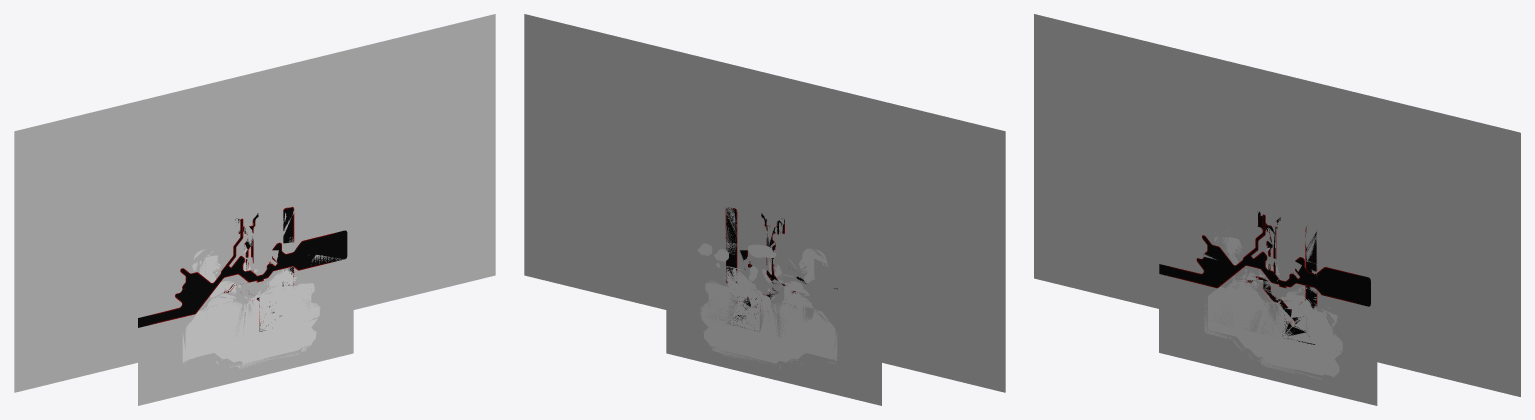
The model's file is HongKong.glb.
3 renders of one model, left to right at view 1: azimuth 30°, elevation 25°; view 2: azimuth 150°, elevation 25°; view 3: azimuth 330°, elevation 25°, orthographic.
Visible parts, largest first — view 1: MSH_Map_NewYorkCity_Land, MSH_MAP_HongKong_Land, MSH_MAP_HongKong_Mountain_Top, MSH_MAP_HongKong_Water, MSH_MAP_HongKong_MountainMask, MSH_MAP_NewYorkCity_Water, MSH_MAP_HongKong_Mountain_Bottom, MSH_MAP_HongKong_Mountain_Mid, MSH_MAP_HongKong_Grass; view 2: MSH_Map_NewYorkCity_Land, MSH_MAP_HongKong_Land, MSH_MAP_HongKong_Mountain_Top, MSH_MAP_HongKong_MountainMask, MSH_MAP_NewYorkCity_Water, MSH_MAP_HongKong_Grass, MSH_MAP_HongKong_Mountain_Bottom, MSH_MAP_NewYorkCity_Grass; view 3: MSH_Map_NewYorkCity_Land, MSH_MAP_HongKong_Land, MSH_MAP_HongKong_Mountain_Top, MSH_MAP_HongKong_Water, MSH_MAP_HongKong_MountainMask, MSH_MAP_NewYorkCity_Water, MSH_MAP_HongKong_Mountain_Bottom, MSH_MAP_HongKong_Mountain_Shadow, MSH_MAP_HongKong_Mountain_Mid.
Boxes of the visible parts, x1,y1,x2,y2 form: MSH_Map_NewYorkCity_Land: [14, 14, 495, 392]; MSH_MAP_HongKong_Land: [138, 83, 353, 405]; MSH_MAP_HongKong_Mountain_Top: [189, 259, 317, 360]; MSH_MAP_HongKong_Water: [138, 218, 347, 327]; MSH_MAP_HongKong_MountainMask: [186, 255, 319, 361]; MSH_MAP_NewYorkCity_Water: [223, 207, 294, 331]; MSH_MAP_HongKong_Mountain_Bottom: [186, 255, 320, 364]; MSH_MAP_HongKong_Mountain_Mid: [188, 257, 317, 362]; MSH_MAP_HongKong_Grass: [210, 249, 296, 299]; MSH_Map_NewYorkCity_Land: [524, 14, 1005, 392]; MSH_MAP_HongKong_Land: [666, 83, 881, 405]; MSH_MAP_HongKong_Mountain_Top: [702, 259, 830, 361]; MSH_MAP_HongKong_MountainMask: [700, 256, 833, 361]; MSH_MAP_NewYorkCity_Water: [725, 207, 795, 331]; MSH_MAP_HongKong_Grass: [723, 244, 809, 299]; MSH_MAP_HongKong_Mountain_Bottom: [700, 256, 833, 363]; MSH_MAP_NewYorkCity_Grass: [739, 261, 805, 318]; MSH_Map_NewYorkCity_Land: [1034, 14, 1520, 396]; MSH_MAP_HongKong_Land: [1159, 79, 1377, 405]; MSH_MAP_HongKong_Mountain_Top: [1210, 240, 1340, 373]; MSH_MAP_HongKong_Water: [1159, 214, 1370, 306]; MSH_MAP_HongKong_MountainMask: [1208, 237, 1342, 377]; MSH_MAP_NewYorkCity_Water: [1245, 211, 1317, 344]; MSH_MAP_HongKong_Mountain_Bottom: [1208, 237, 1342, 377]; MSH_MAP_HongKong_Mountain_Shadow: [1204, 238, 1321, 379]; MSH_MAP_HongKong_Mountain_Mid: [1209, 238, 1341, 374].
Size of the model in its own units: 546 by 331 by 19.06.
Materials: 11 (2 with a texture image).
